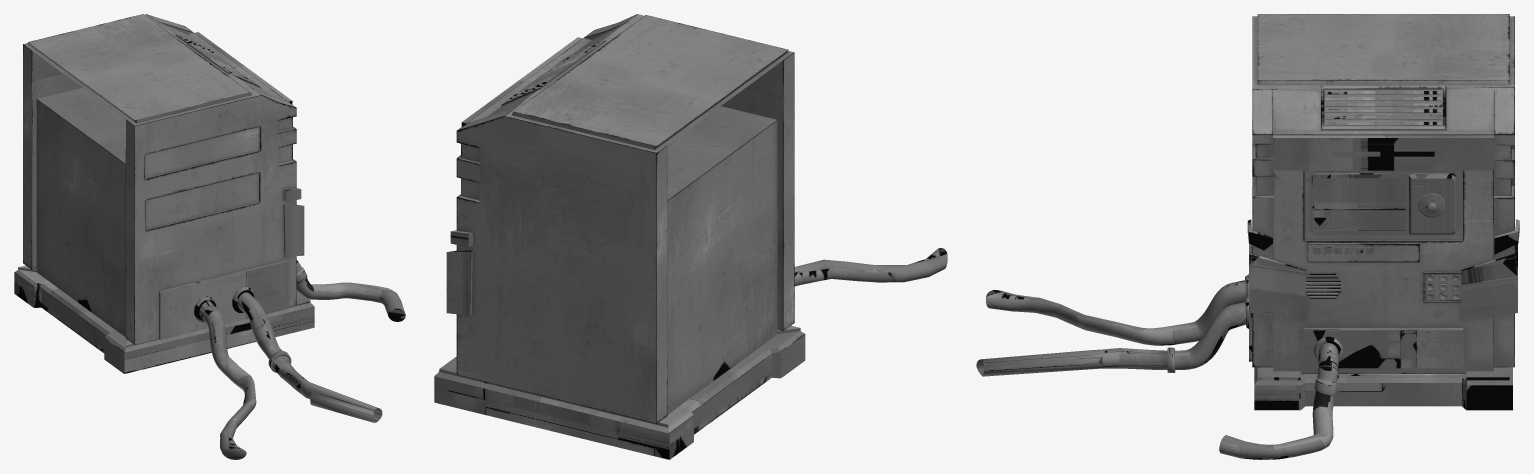
3 renders of one model, left to right at view 1: azimuth 30°, elevation 25°; view 2: azimuth 150°, elevation 25°; view 3: azimuth 270°, elevation 25°, orthographic. The views are drawn at different scales.
Visible parts, largest first — view 1: defaultMaterial, defaultMaterial.001, defaultMaterial.002, defaultMaterial.004; view 2: defaultMaterial, defaultMaterial.001, defaultMaterial.002, defaultMaterial.004; view 3: defaultMaterial, defaultMaterial.001, defaultMaterial.002, defaultMaterial.004, defaultMaterial.003.
Boxes of the visible parts, x1,y1,x2,y2 form: defaultMaterial: [23, 14, 296, 344]; defaultMaterial.001: [14, 32, 314, 373]; defaultMaterial.002: [194, 260, 405, 459]; defaultMaterial.004: [181, 37, 256, 84]; defaultMaterial: [456, 14, 794, 423]; defaultMaterial.001: [434, 37, 805, 459]; defaultMaterial.002: [794, 248, 947, 286]; defaultMaterial.004: [506, 44, 597, 101]; defaultMaterial: [1252, 14, 1514, 373]; defaultMaterial.001: [1247, 135, 1519, 410]; defaultMaterial.002: [976, 274, 1343, 459]; defaultMaterial.004: [1324, 91, 1442, 125]; defaultMaterial.003: [1314, 193, 1459, 299].
Bounding box in the file's own units: 114788 × 97623 × 159379.
Materials: 5 (5 with a texture image).
